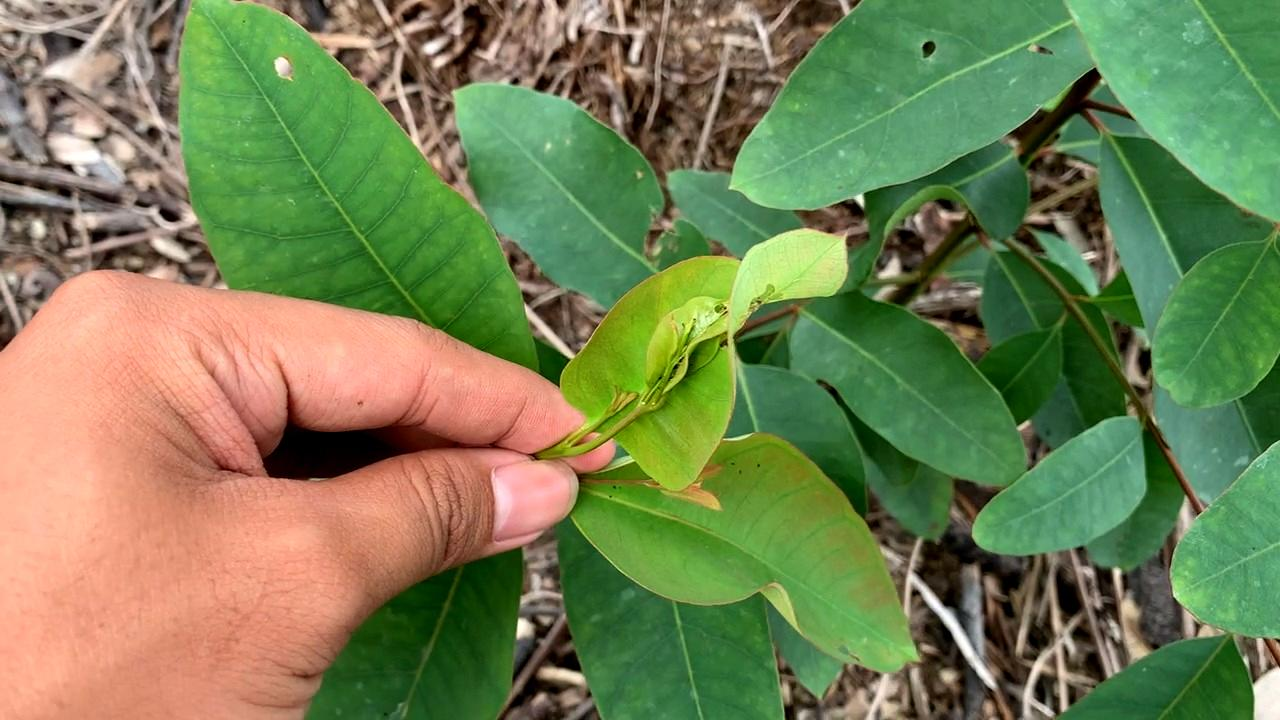Leaf Roller - Leaf: (553, 213, 861, 486)
